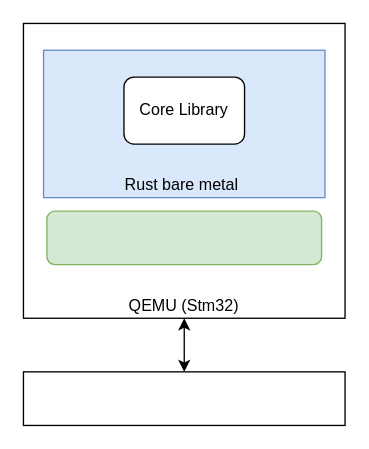
This 369x449 diagram has some shape labels left out. Each missing label, with the centre of its shape:
"ARM (virtual CPU)" goes at [184,237].
"Standard IO console" goes at [183,398].
